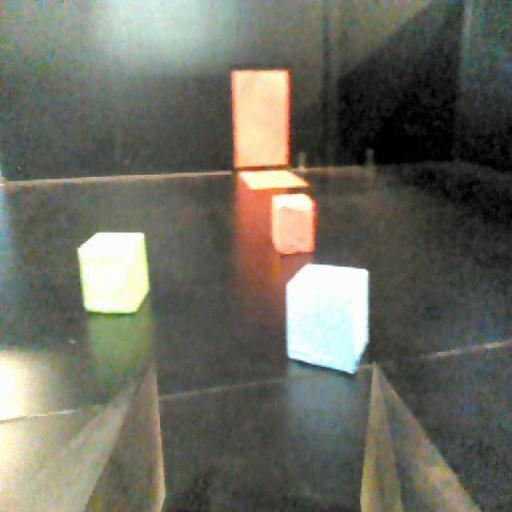cube: (282, 262, 373, 380), (76, 226, 150, 316), (266, 191, 318, 256)
